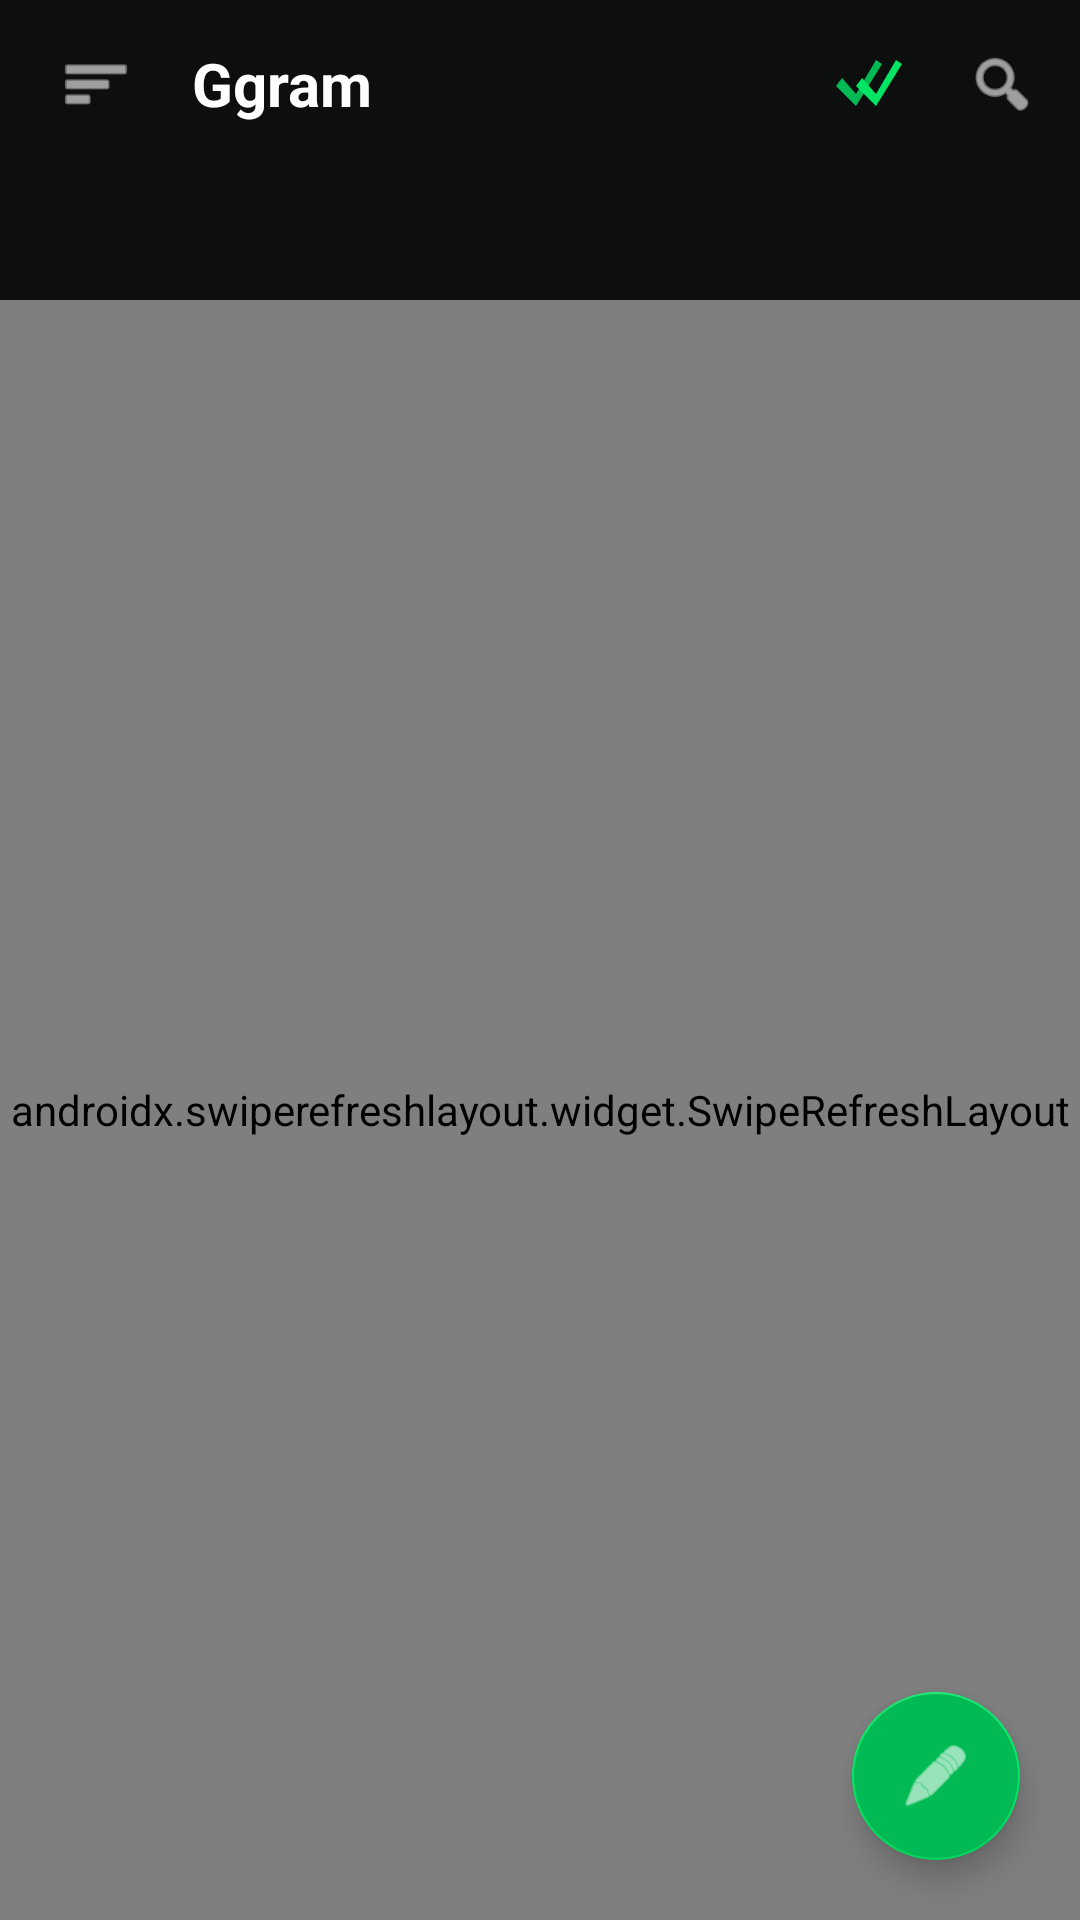

Icon click points for this 1080px×1920px phone screenshot, format point (x, y):
Mark All Read: point (869, 83)
Menu: point (96, 84)
New Message: point (936, 1776)
Search: point (1002, 84)
